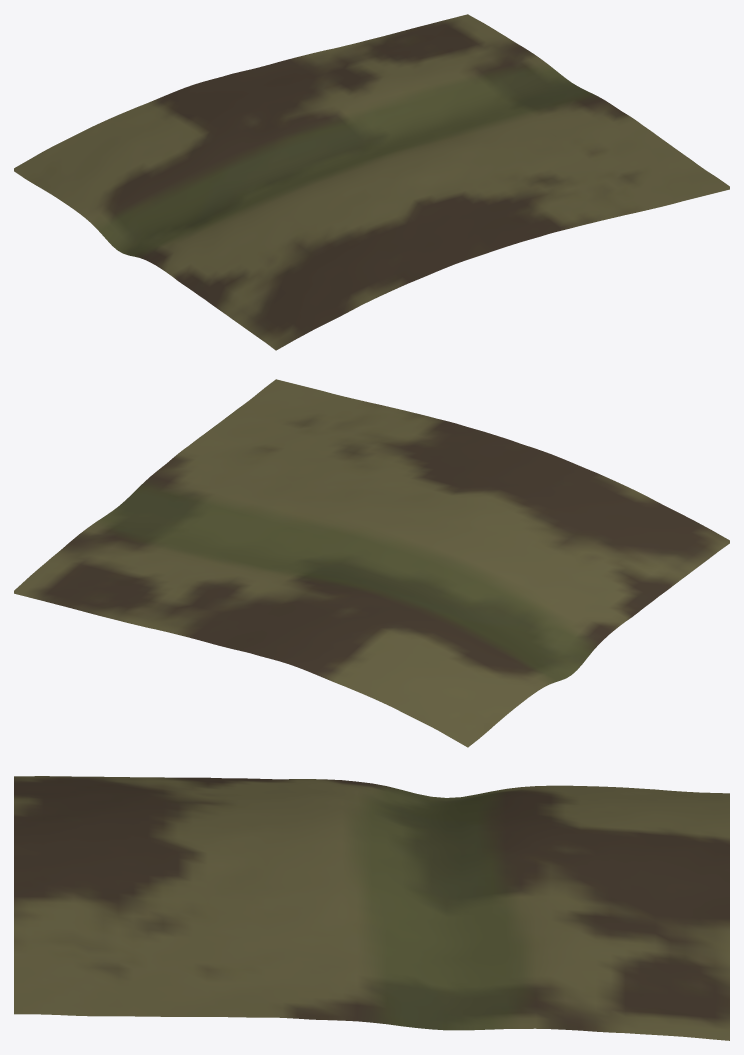
File: land_m_10_05.glb
3 renders of one model, top to bottom at view 1: azimuth 30°, elevation 25°; view 2: azimuth 150°, elevation 25°; view 3: azimuth 270°, elevation 25°, orthographic. The views are drawn at different scales.
Visible parts, largest first — view 1: land_m_10_05; view 2: land_m_10_05; view 3: land_m_10_05.
Boxes of the visible parts, x1,y1,x2,y2 form: land_m_10_05: (14, 14, 729, 350); land_m_10_05: (14, 379, 729, 747); land_m_10_05: (14, 776, 729, 1040).
Bounding box in the file's own units: 960 × 140 × 960.
